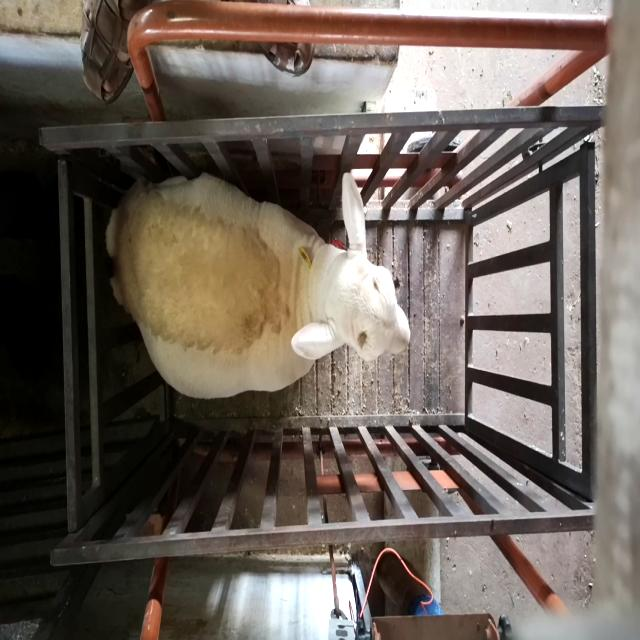sheep: (105, 171, 412, 399)
